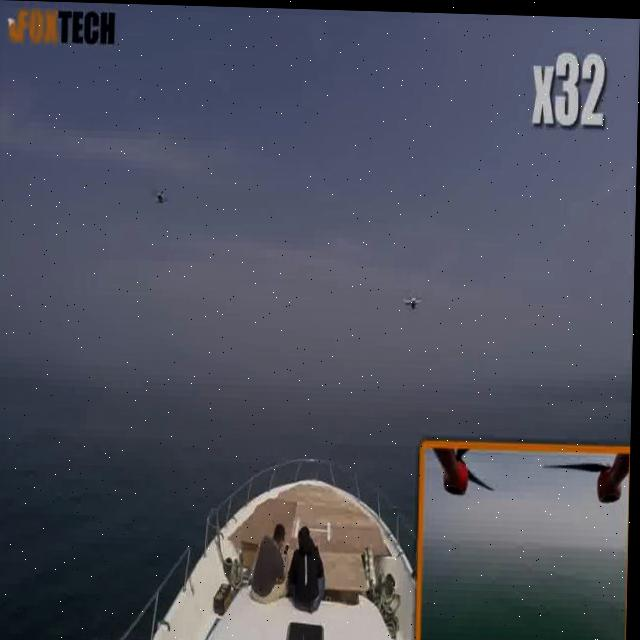drone: (402, 278, 432, 314), (153, 175, 176, 213)
